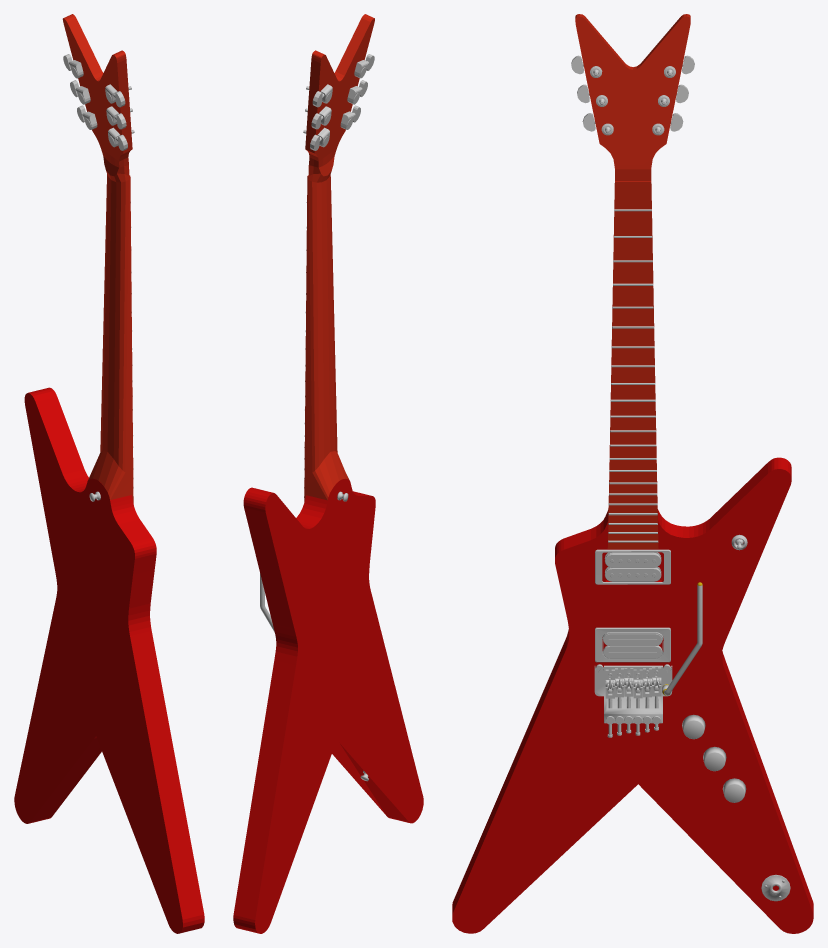
File: testobj.obj
3 views of the same model, side by side, from view 1: azimuth 30°, elevation 25°; view 2: azimuth 150°, elevation 25°; view 3: azimuth 270°, elevation 25° (orthographic). The views are drawn at different scales.
Parts seen in each view (by area): view 1: body, neck; view 2: body, neck; view 3: body, neck, floyd_rose, Cylinder.001, lawrence_pickup, seymour_pickup, knob_1.002, pickup_ring, Cube.
Part boxes in pixels (<box>): body: <box>14,387,204,933</box>; neck: <box>62,14,133,503</box>; body: <box>233,479,423,933</box>; neck: <box>304,14,374,501</box>; body: <box>452,457,813,933</box>; neck: <box>575,14,690,548</box>; floyd_rose: <box>594,582,702,737</box>; Cylinder.001: <box>608,209,658,542</box>; lawrence_pickup: <box>602,632,663,659</box>; seymour_pickup: <box>604,552,661,581</box>; knob_1.002: <box>682,714,746,802</box>; pickup_ring: <box>595,627,670,662</box>; Cube: <box>595,549,670,584</box>.
Size of the model in its own units: 0.2894 by 4.1 by 1.48.
